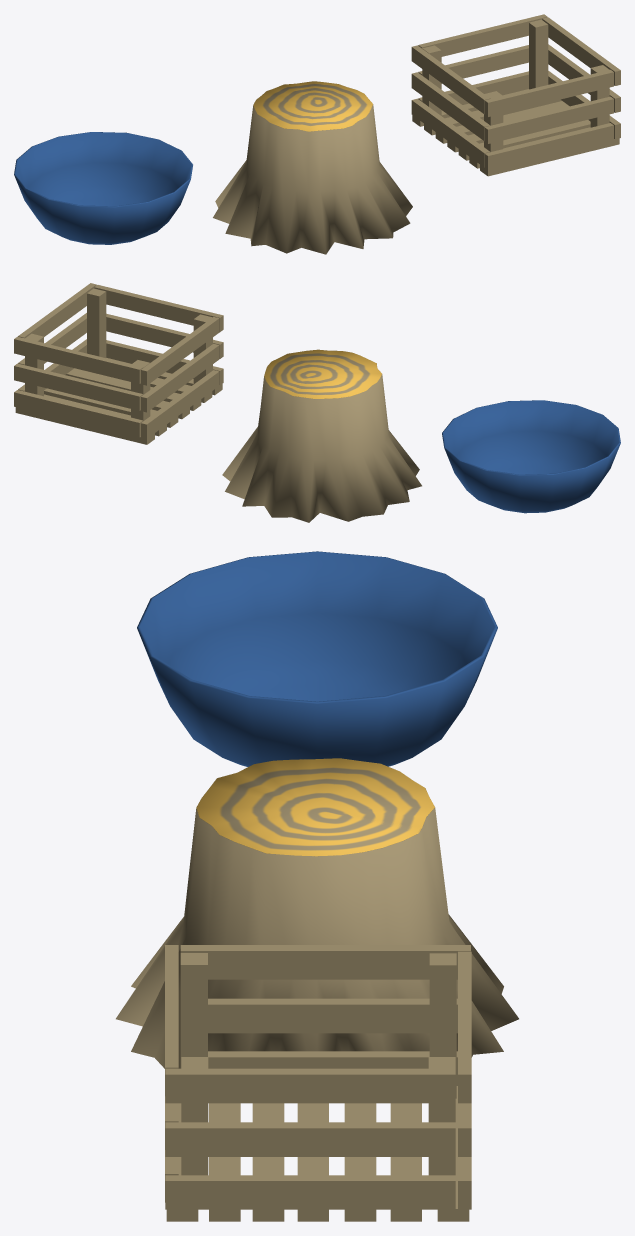
File: bedne.fbx
3 renders of one model, top to bottom at view 1: azimuth 30°, elevation 25°; view 2: azimuth 150°, elevation 25°; view 3: azimuth 270°, elevation 25°, orthographic. The views are drawn at different scales.
Visible parts, largest first — view 1: Cylinder.001, bednička, Cylinder.002; view 2: Cylinder.001, bednička, Cylinder.002; view 3: bednička, Cylinder.002, Cylinder.001.
Part boxes in pixels (left/top/right/bottom): Cylinder.001: left=213, top=81, right=412, bottom=254; bednička: left=411, top=14, right=620, bottom=176; Cylinder.002: left=14, top=132, right=192, bottom=244; Cylinder.001: left=222, top=349, right=421, bottom=522; bednička: left=14, top=283, right=223, bottom=444; Cylinder.002: left=442, top=400, right=620, bottom=513; bednička: left=165, top=945, right=471, bottom=1221; Cylinder.002: left=137, top=551, right=497, bottom=766; Cylinder.001: left=116, top=758, right=518, bottom=1068.
Bounding box in the file's own units: 1099 × 200 × 345.
Materials: 4 (2 with a texture image).
